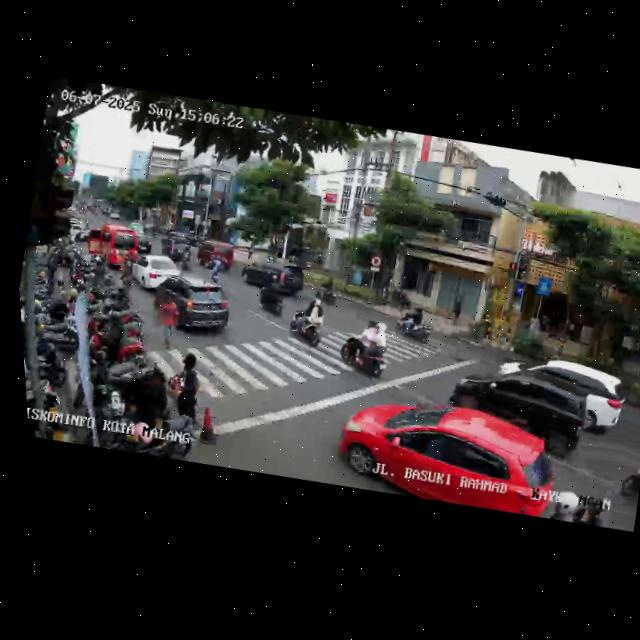car: (327, 377, 568, 529), (439, 354, 595, 471), (489, 341, 635, 434), (150, 271, 237, 345), (237, 253, 307, 302), (80, 218, 140, 273), (125, 248, 186, 298), (193, 235, 238, 273), (158, 233, 194, 263), (132, 232, 154, 255)
motorcycle: (331, 312, 400, 384), (603, 452, 640, 532), (284, 290, 331, 351), (392, 301, 438, 349), (252, 273, 291, 320), (205, 252, 226, 285)
person: (165, 348, 213, 431), (150, 289, 185, 352)
